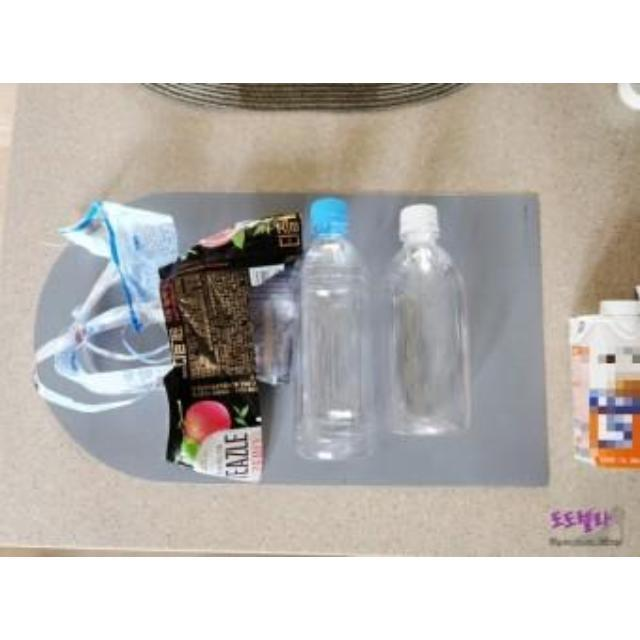Botella de plastico: (385, 205, 477, 443), (304, 203, 378, 467)
Paquete de plastico: (170, 218, 288, 480)
